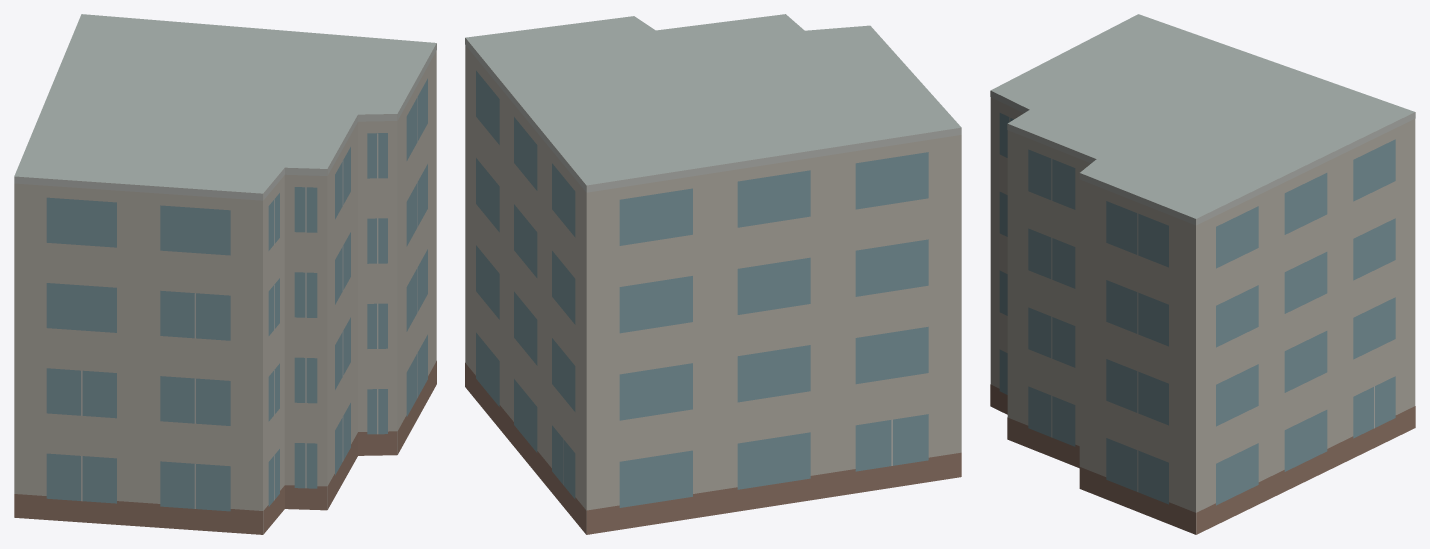
Rendered from survey-upis-33022732.glb.
The picture shows the model from 3 angles, left to right: view 1: azimuth 30°, elevation 25°; view 2: azimuth 150°, elevation 25°; view 3: azimuth 270°, elevation 25°; orthographic projection. The views are drawn at different scales.
Visible parts, largest first — view 1: survey-upis-33022732.tmp; view 2: survey-upis-33022732.tmp; view 3: survey-upis-33022732.tmp.
Boxes of the visible parts, x1,y1,x2,y2 form: survey-upis-33022732.tmp: (14,14,436,534); survey-upis-33022732.tmp: (465,14,961,534); survey-upis-33022732.tmp: (990,14,1415,534).
Size of the model in its own units: 16.43 by 11.8 by 14.39.
